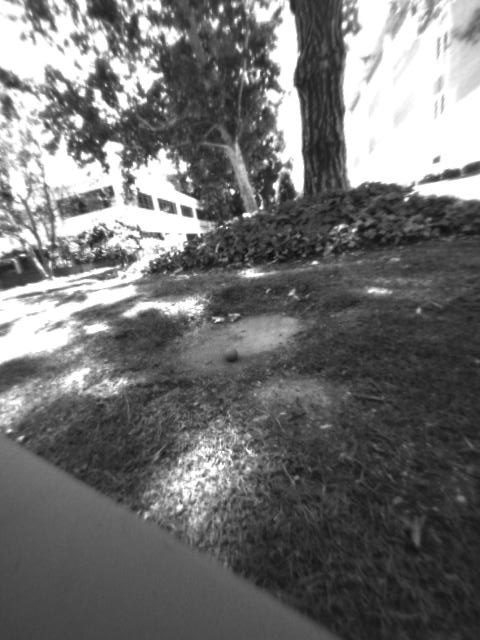dogtoy: (214, 340, 251, 371)
